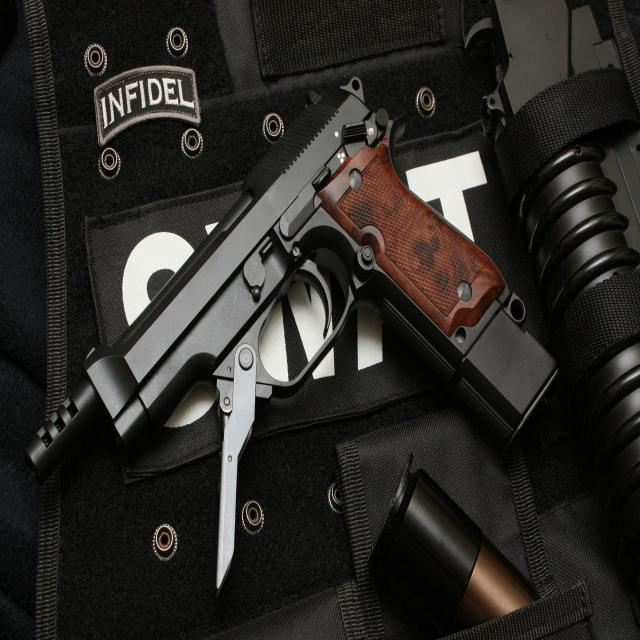handgun: (33, 79, 556, 471)
